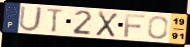2: (71, 10, 94, 36)
F: (123, 13, 147, 39)
O: (147, 15, 170, 40)
T: (46, 7, 65, 34)
U: (18, 5, 44, 33)
X: (94, 10, 120, 39)
